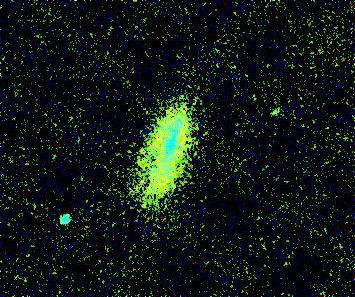star: (127, 166, 157, 196)
